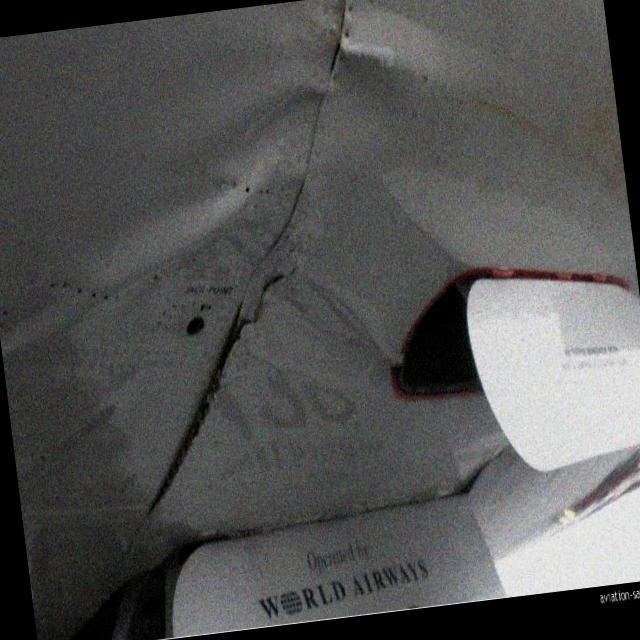crack: (225, 262, 307, 344)
